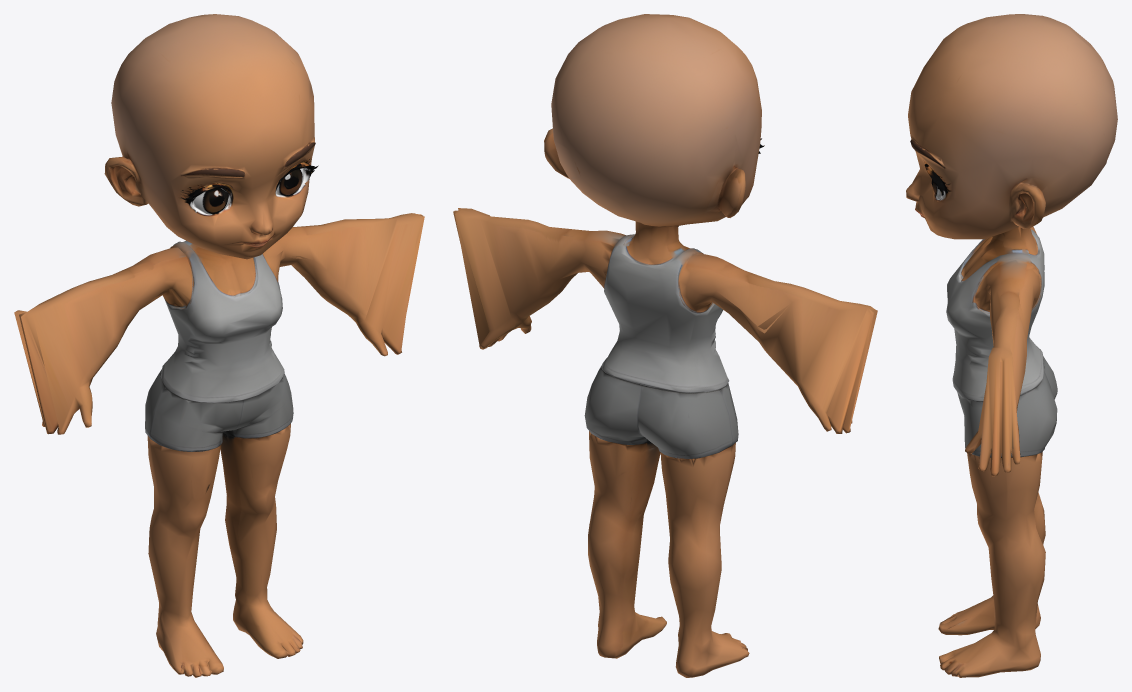
File: base_female.glb
3 views of the same model, side by side, from view 1: azimuth 30°, elevation 25°; view 2: azimuth 150°, elevation 25°; view 3: azimuth 270°, elevation 25° (orthographic). The views are drawn at different scales.
Visible parts, largest first — view 1: base_female; view 2: base_female; view 3: base_female.
Boxes of the visible parts, box(x1,y1,x2,y2) form: base_female: box(14, 14, 424, 677); base_female: box(453, 14, 877, 677); base_female: box(906, 14, 1117, 677).
Size of the model in its own units: 0.8036 by 1.16 by 0.3578.
1 material, 1 textured.
